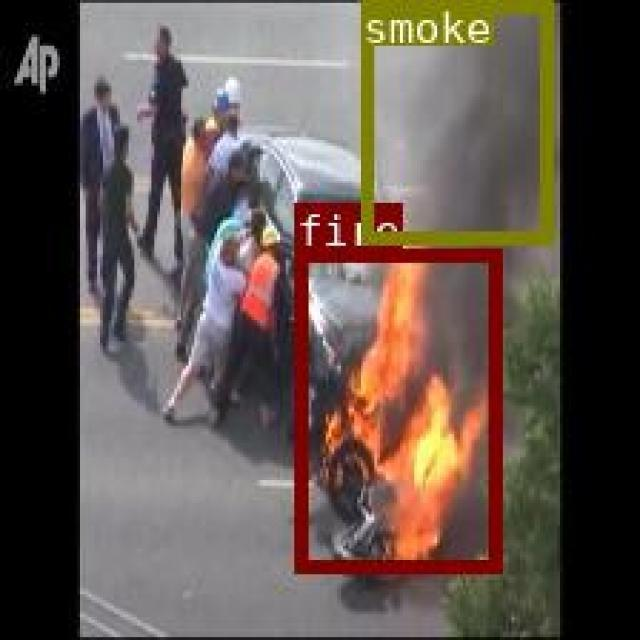fire: (293, 248, 500, 569)
smoke: (359, 0, 550, 243)
